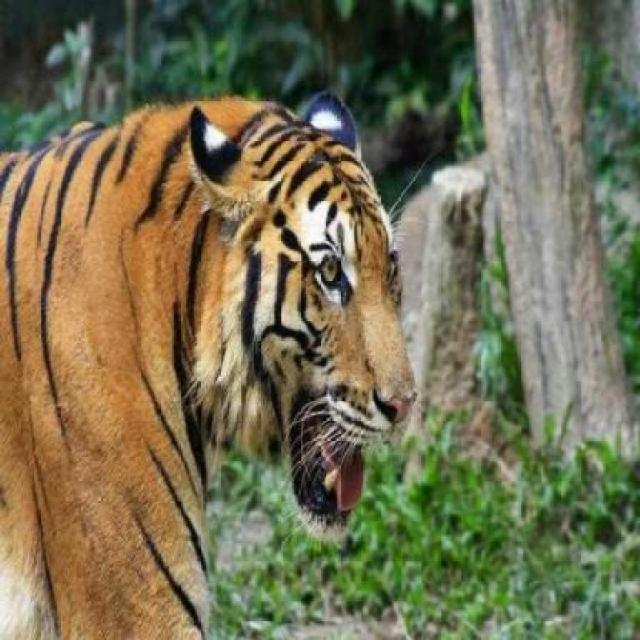tiger: (0, 91, 419, 639)
